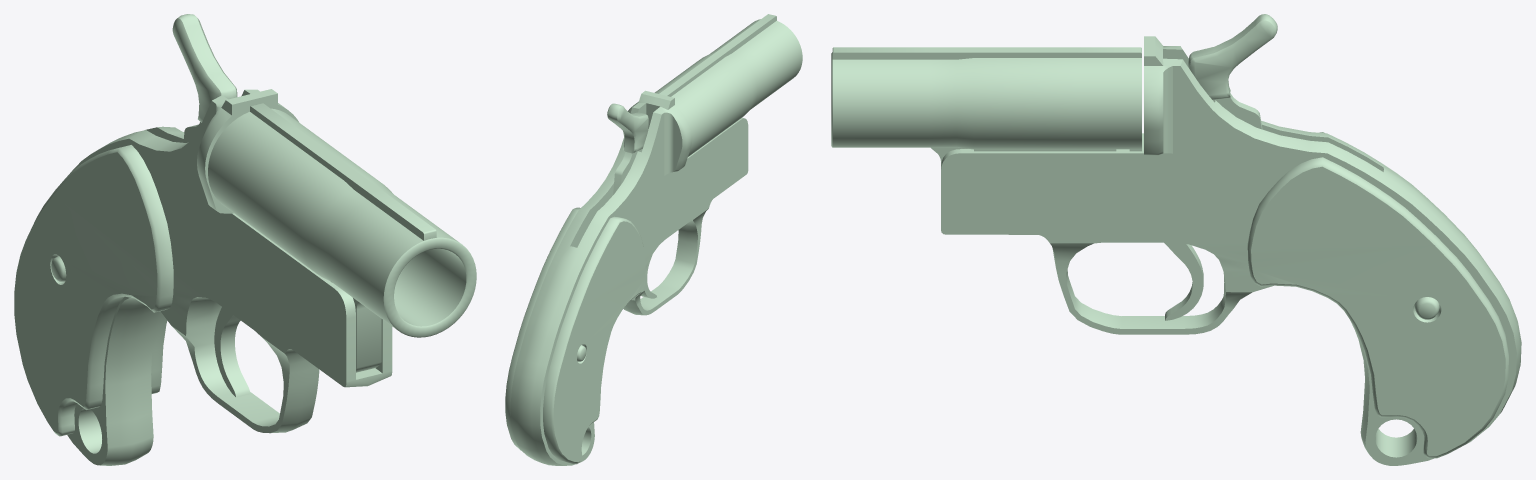
File: Flaregun.fbx
3 renders of one model, left to right at view 1: azimuth 30°, elevation 25°; view 2: azimuth 150°, elevation 25°; view 3: azimuth 270°, elevation 25°, orthographic. The views are drawn at different scales.
Visible parts, largest first — view 1: WPN_Flaregun, WPN_Flaregun_barrel, WPN_Flaregun_hammer, WPN_Flaregun_trigger; view 2: WPN_Flaregun, WPN_Flaregun_barrel, WPN_Flaregun_hammer; view 3: WPN_Flaregun, WPN_Flaregun_barrel, WPN_Flaregun_hammer, WPN_Flaregun_trigger.
Part boxes in pixels (<box>): WPN_Flaregun: <box>14,89,392,465</box>; WPN_Flaregun_barrel: <box>208,103,476,372</box>; WPN_Flaregun_hammer: <box>172,14,237,142</box>; WPN_Flaregun_trigger: <box>214,307,250,397</box>; WPN_Flaregun: <box>505,90,748,465</box>; WPN_Flaregun_barrel: <box>654,14,802,156</box>; WPN_Flaregun_hammer: <box>607,103,648,194</box>; WPN_Flaregun: <box>941,36,1521,465</box>; WPN_Flaregun_barrel: <box>831,47,1141,164</box>; WPN_Flaregun_hammer: <box>1188,14,1277,129</box>; WPN_Flaregun_trigger: <box>1164,242,1203,320</box>.
Bounding box in the file's own units: 3.29 × 15.7 × 22.11.
